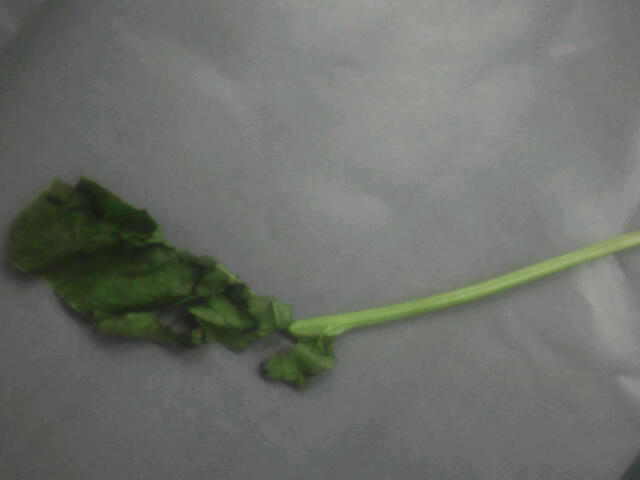yellow: (8, 170, 359, 403)
